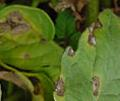Tomato Early blight leaf: (54, 17, 120, 101)
